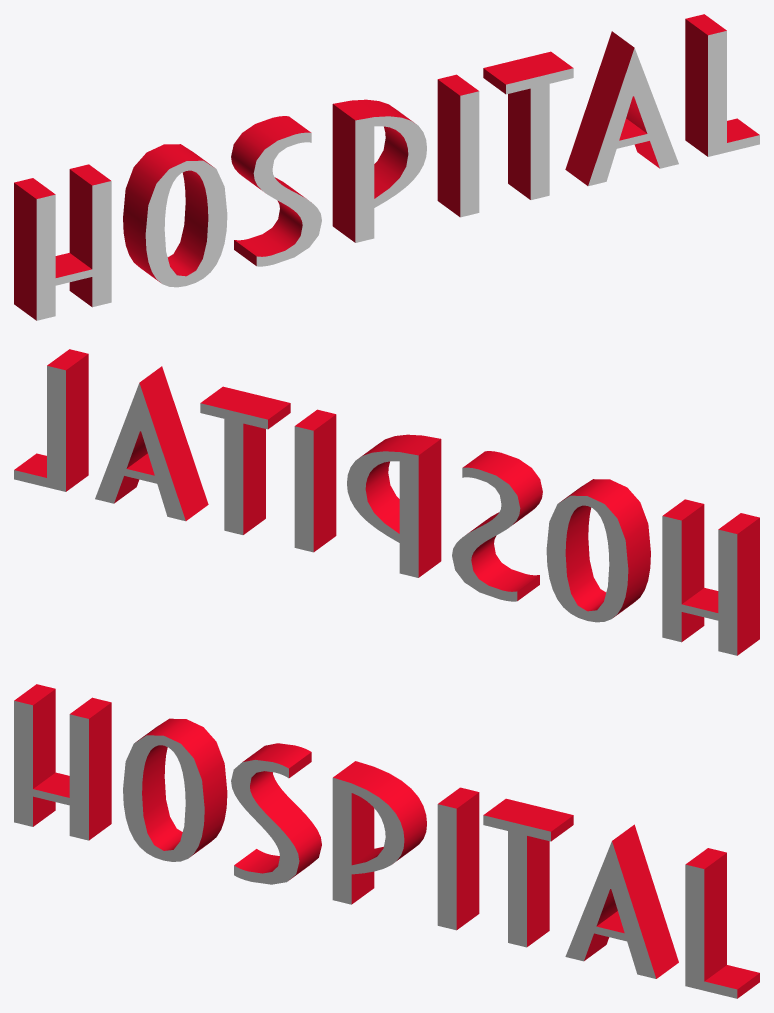
File: text_hospital.fbx
The picture shows the model from 3 angles, top to bottom: view 1: azimuth 30°, elevation 25°; view 2: azimuth 150°, elevation 25°; view 3: azimuth 330°, elevation 25°; orthographic projection.
Visible parts, largest first — view 1: text_hospital; view 2: text_hospital; view 3: text_hospital.
Boxes of the visible parts, <box> form: text_hospital: <box>14,14,759,320</box>; text_hospital: <box>14,349,759,655</box>; text_hospital: <box>14,684,759,998</box>.
Bounding box in the file's own units: 14.13 × 2.41 × 0.7672.
